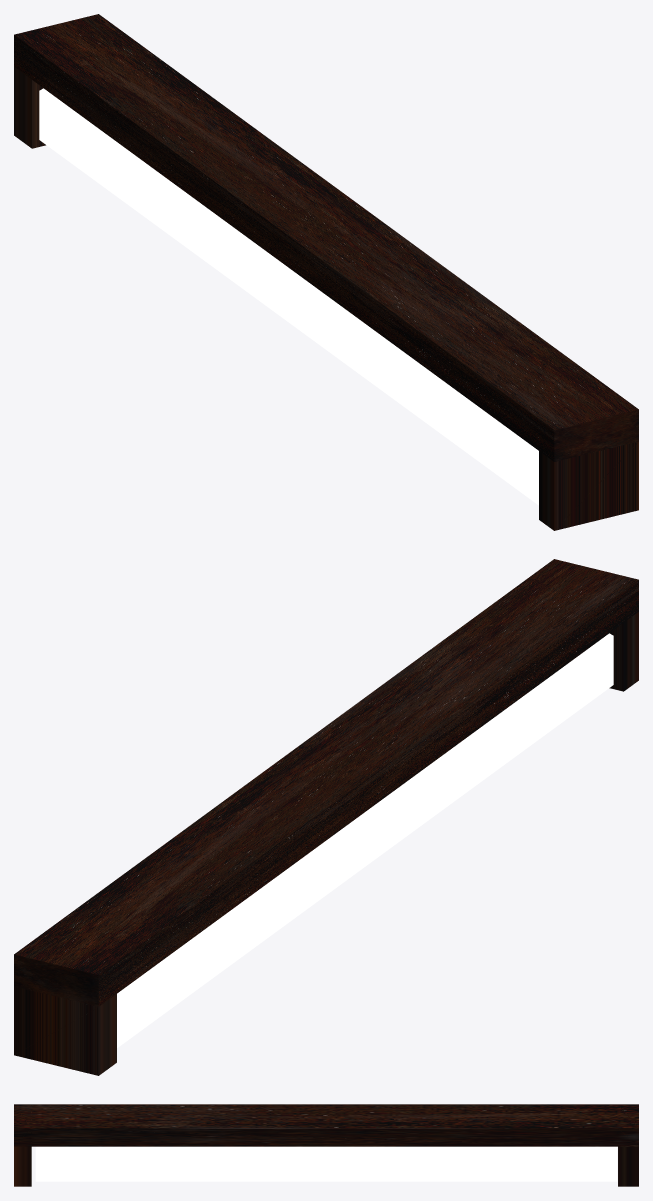
The model's file is Lamp.fbx.
The picture shows the model from 3 angles, top to bottom: view 1: azimuth 30°, elevation 25°; view 2: azimuth 150°, elevation 25°; view 3: azimuth 270°, elevation 25°; orthographic projection. The views are drawn at different scales.
Parts seen in each view (by area): view 1: pCube37, pCylinder1; view 2: pCube37, pCylinder1; view 3: pCube37, pCylinder1.
Boxes of the visible parts, bbox=[...] form: pCube37: bbox=[14, 14, 638, 530]; pCylinder1: bbox=[39, 88, 538, 505]; pCube37: bbox=[14, 559, 638, 1075]; pCylinder1: bbox=[117, 633, 613, 1047]; pCube37: bbox=[14, 1104, 638, 1186]; pCylinder1: bbox=[35, 1146, 617, 1181].
Bounding box in the file's own units: 0.1319 × 0.1613 × 1.46.
